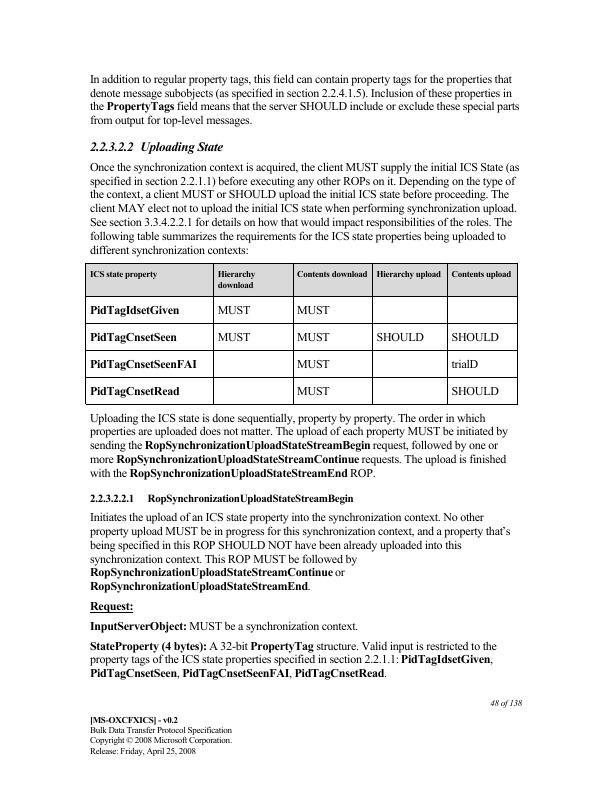table: (85, 261, 520, 405)
text: (87, 160, 522, 256), (87, 511, 512, 594), (88, 411, 510, 479), (86, 70, 523, 129), (87, 641, 500, 679), (86, 714, 234, 755), (87, 620, 359, 634), (86, 491, 356, 505), (88, 139, 224, 155), (86, 600, 136, 616), (485, 696, 527, 711)
